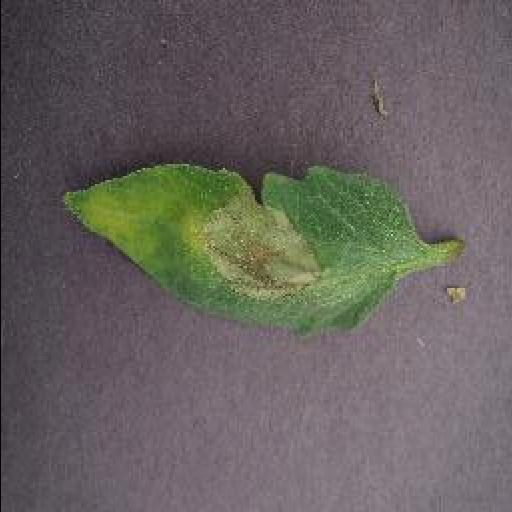disease_tomato: (53, 162, 423, 342)
